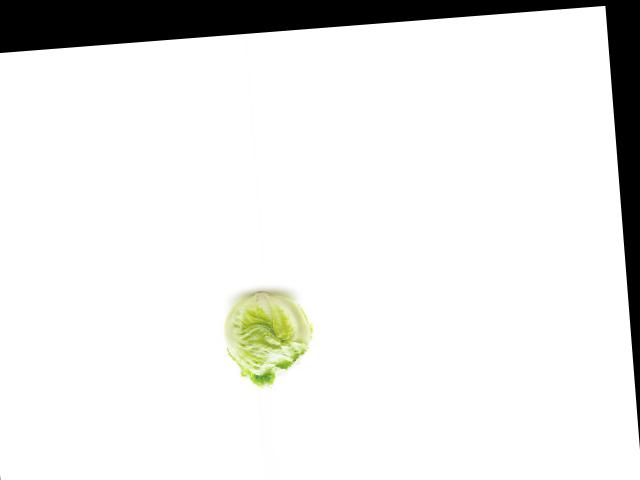lettuce: (217, 283, 324, 391)
